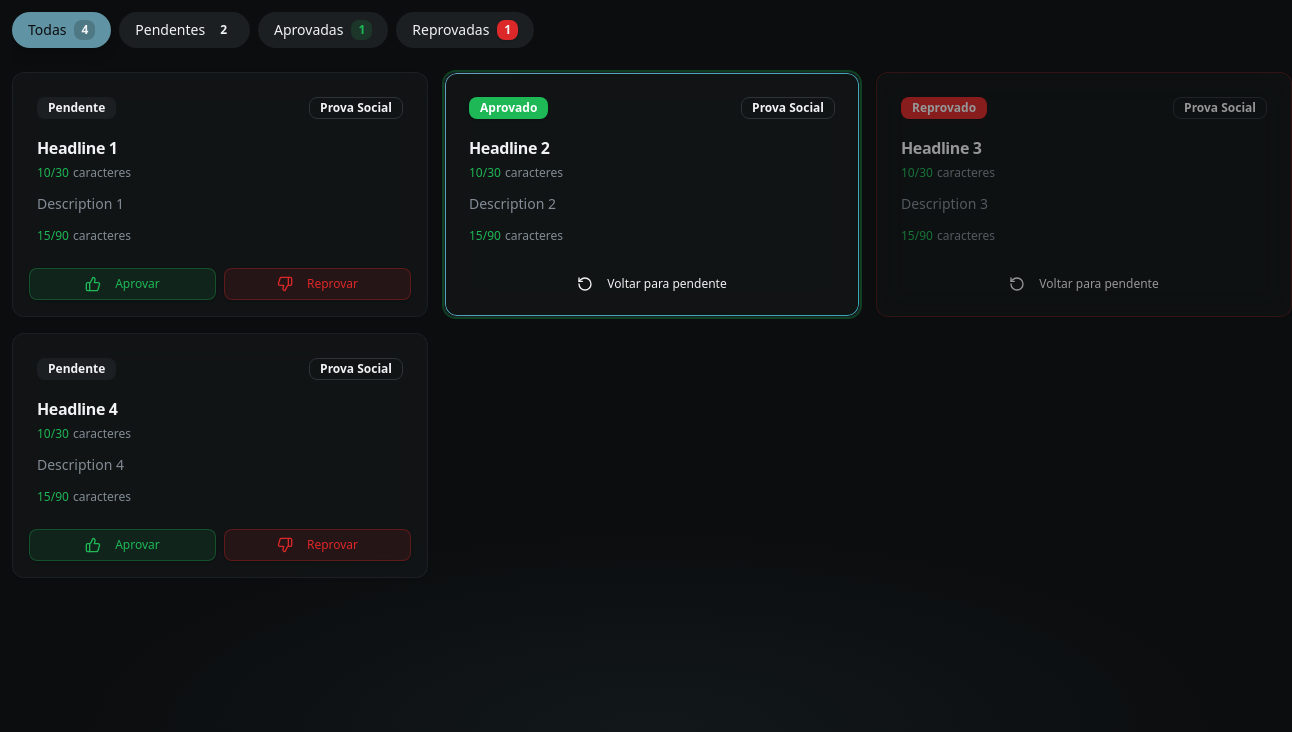
Test case: VariationGrid › should filter by approved when clicking Aprovadas
This screenshot has width=1292, height=732.
Click the button "Aprovadas 1" at (323,30), box left=258, top=12, right=388, bottom=48
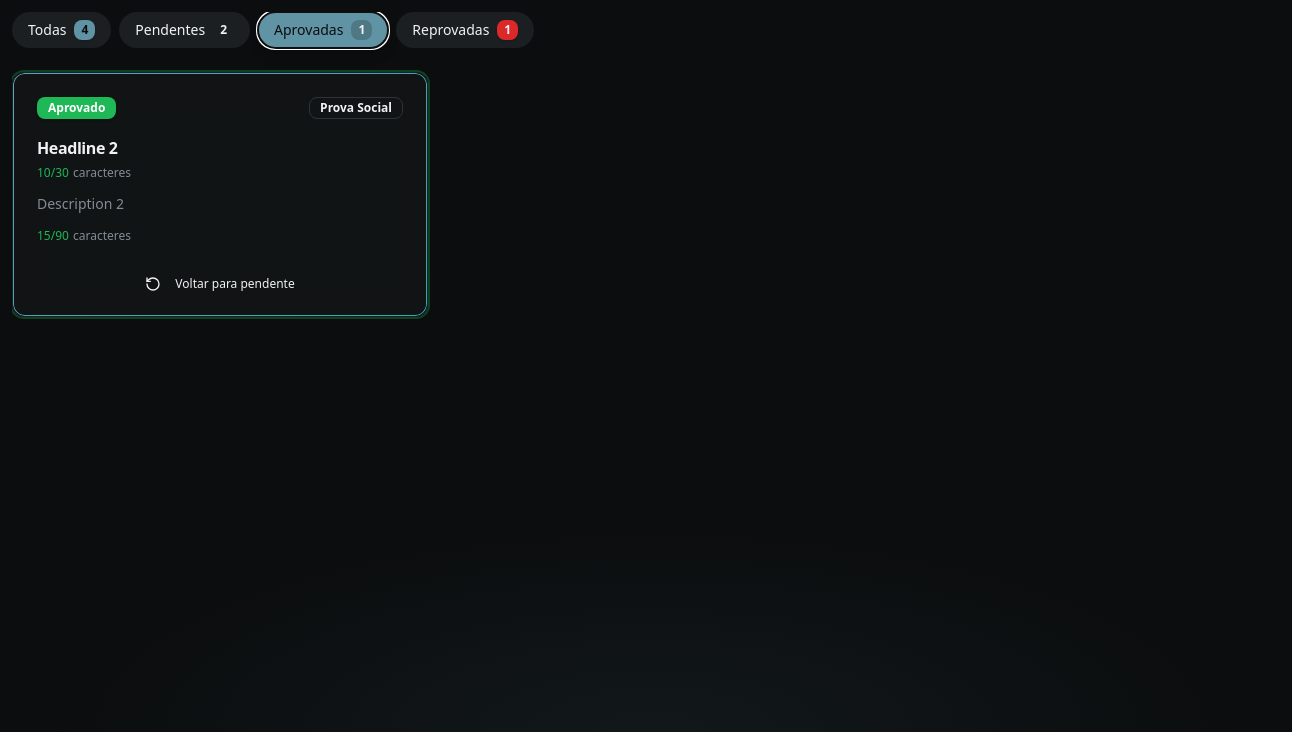
Check: the text "Headline 1" is gone
Check: the text "Headline 3" is gone
Check: the text "Headline 4" is gone
